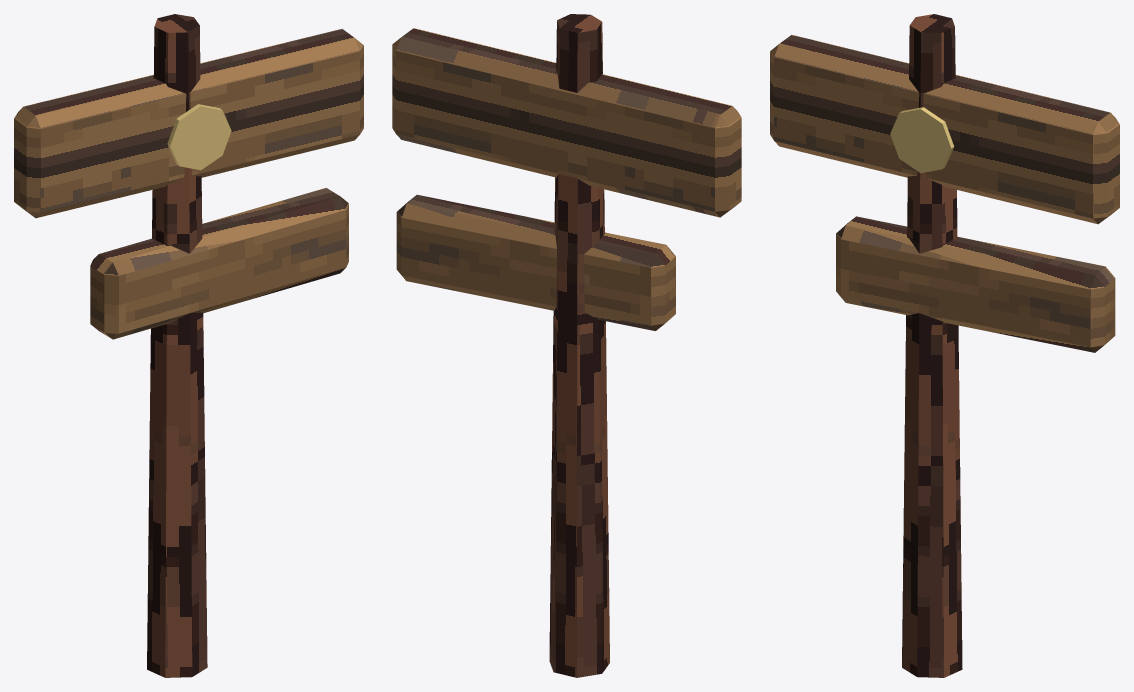
Rendered from enfeite_placa.glb.
The picture shows the model from 3 angles, left to right: view 1: azimuth 30°, elevation 25°; view 2: azimuth 150°, elevation 25°; view 3: azimuth 330°, elevation 25°; orthographic projection.
Parts seen in each view (by area): view 1: pedreira_enfeite_placa; view 2: pedreira_enfeite_placa; view 3: pedreira_enfeite_placa.
Boxes of the visible parts, <box> form: pedreira_enfeite_placa: <box>14,14,363,677</box>; pedreira_enfeite_placa: <box>392,14,741,677</box>; pedreira_enfeite_placa: <box>770,14,1119,677</box>.
Bounding box in the file's own units: 0.55 × 1 × 0.099.
3 materials, 2 textured.
